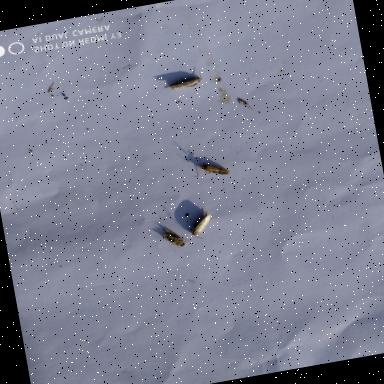pbw: (188, 149, 234, 183), (155, 221, 195, 256), (182, 208, 218, 243), (163, 69, 205, 94)
